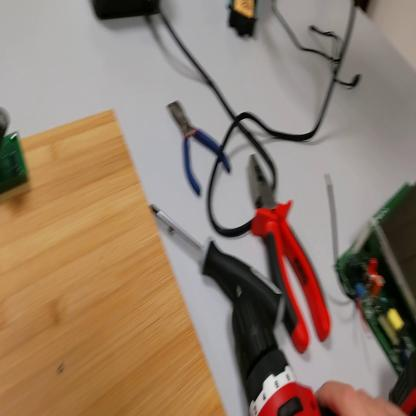electric screwdriver: (235, 284, 341, 416)
hand: (316, 380, 409, 415)
high voltage board: (1, 109, 30, 195)
low voltage board: (335, 176, 416, 378)
pliers: (247, 153, 333, 356), (169, 96, 232, 196)
screwdriver-: (148, 200, 286, 333)
welder base: (225, 3, 261, 45)
welder station: (91, 3, 164, 24)
working area: (2, 105, 228, 416)
